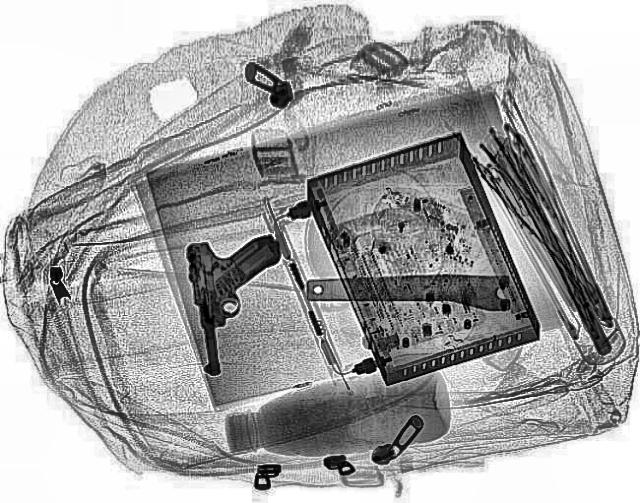Gun: (180, 231, 296, 375)
